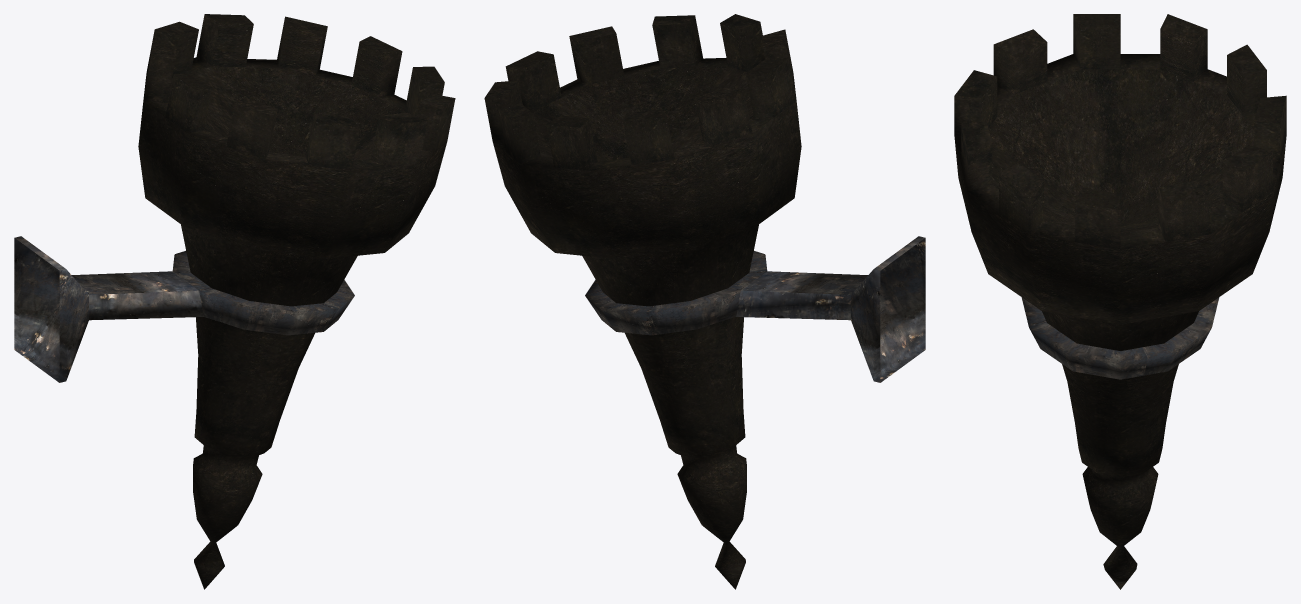
Rendered from Torch.fbx.
3 views of the same model, side by side, from view 1: azimuth 30°, elevation 25°; view 2: azimuth 150°, elevation 25°; view 3: azimuth 270°, elevation 25° (orthographic). The views are drawn at different scales.
Visible parts, largest first — view 1: Torch24; view 2: Torch24; view 3: Torch24.
Part boxes in pixels (left/top/right/bottom): Torch24: left=14, top=14, right=455, bottom=589; Torch24: left=484, top=14, right=925, bottom=589; Torch24: left=954, top=14, right=1286, bottom=589.
Size of the model in its own units: 0.4856 by 0.6115 by 0.3288.
